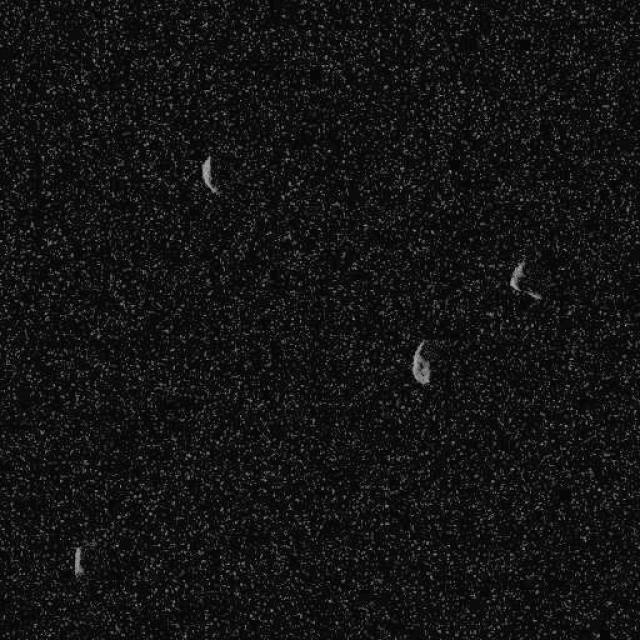D2: (508, 256, 542, 302), (410, 339, 431, 385), (200, 154, 220, 195), (72, 545, 84, 576)
